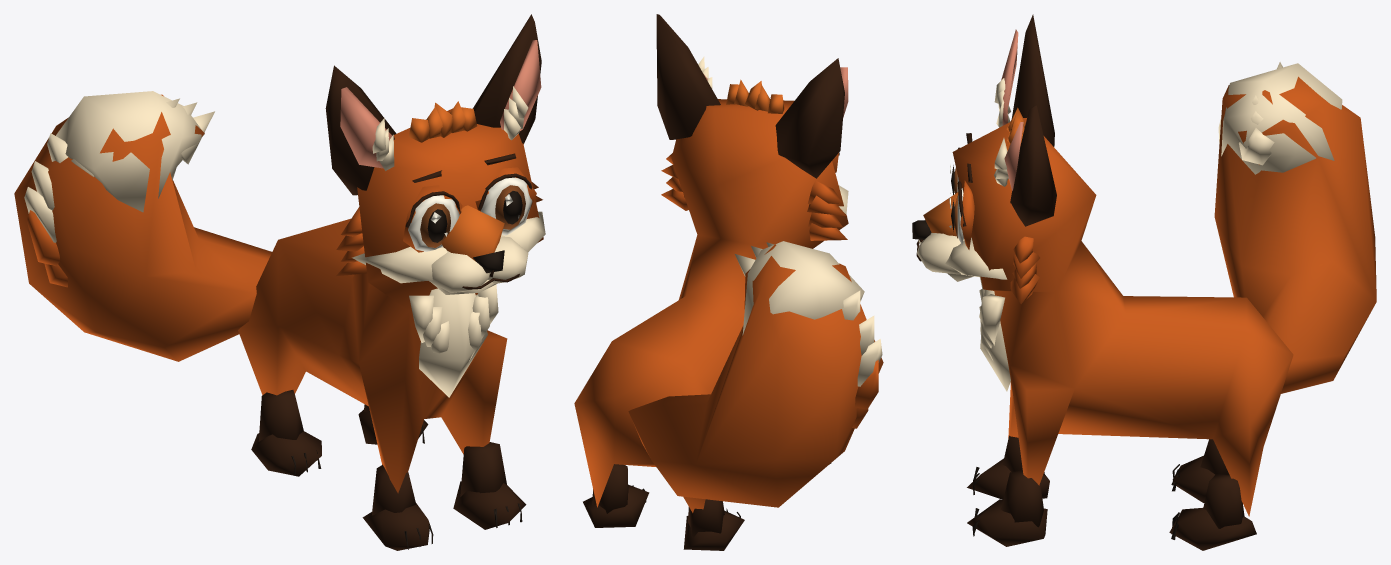
The model's file is geometry-source-sided.glb.
3 renders of one model, left to right at view 1: azimuth 30°, elevation 25°; view 2: azimuth 150°, elevation 25°; view 3: azimuth 270°, elevation 25°, orthographic. The views are drawn at different scales.
Visible parts, largest first — view 1: EXPORT Anatomy • unified live sculpt surface, EXPORT Tail • sweeping continuous silhouette, EXPORT Tail • broad ivory tip, EXPORT Cream throat bib, EXPORT Ear • solid rim -1, EXPORT Ear • solid rim 1, EXPORT Rear paw -1, EXPORT Muzzle • projecting orange bridge, EXPORT Front paw -1, EXPORT Ear • recessed coral concha -1, EXPORT Front paw 1, EXPORT Front cocoa sock 1 (+13 smaller); view 2: EXPORT Anatomy • unified live sculpt surface, EXPORT Tail • sweeping continuous silhouette, EXPORT Tail • broad ivory tip, EXPORT Ear • solid rim -1, EXPORT Ear • solid rim 1, EXPORT Rear paw 1, EXPORT Rear paw -1, EXPORT Rear cocoa sock 1, EXPORT Rear cocoa sock -1, EXPORT Tail silhouette tuft 3, EXPORT Tail silhouette tuft 4, EXPORT Cheek ruff lock -1 3 (+5 smaller); view 3: EXPORT Anatomy • unified live sculpt surface, EXPORT Tail • sweeping continuous silhouette, EXPORT Tail • broad ivory tip, EXPORT Ear • solid rim 1, EXPORT Ear • solid rim -1, EXPORT Rear paw 1, EXPORT Front paw 1, EXPORT Front cocoa sock 1, EXPORT Rear cocoa sock 1, EXPORT Muzzle pad 1, EXPORT Cream swept cheek 1, EXPORT Front paw -1 (+9 smaller).
Part boxes in pixels (x1=…): EXPORT Anatomy • unified live sculpt surface: x1=238, y1=108, x2=543, y2=493; EXPORT Tail • sweeping continuous silhouette: x1=14, y1=94, x2=271, y2=361; EXPORT Tail • broad ivory tip: x1=56, y1=91, x2=204, y2=212; EXPORT Cream throat bib: x1=419, y1=288, x2=487, y2=397; EXPORT Ear • solid rim -1: x1=325, y1=65, x2=396, y2=195; EXPORT Ear • solid rim 1: x1=473, y1=14, x2=541, y2=143; EXPORT Rear paw -1: x1=251, y1=431, x2=321, y2=476; EXPORT Muzzle • projecting orange bridge: x1=441, y1=205, x2=504, y2=261; EXPORT Front paw -1: x1=362, y1=503, x2=429, y2=550; EXPORT Ear • recessed coral concha -1: x1=340, y1=87, x2=392, y2=168; EXPORT Front paw 1: x1=453, y1=481, x2=526, y2=529; EXPORT Front cocoa sock 1: x1=460, y1=442, x2=506, y2=496; EXPORT Anatomy • unified live sculpt surface: x1=574, y1=99, x2=848, y2=512; EXPORT Tail • sweeping continuous silhouette: x1=628, y1=244, x2=883, y2=507; EXPORT Tail • broad ivory tip: x1=742, y1=241, x2=864, y2=335; EXPORT Ear • solid rim -1: x1=775, y1=58, x2=844, y2=178; EXPORT Ear • solid rim 1: x1=656, y1=14, x2=720, y2=139; EXPORT Rear paw 1: x1=583, y1=484, x2=649, y2=527; EXPORT Rear paw -1: x1=683, y1=510, x2=744, y2=550; EXPORT Rear cocoa sock 1: x1=592, y1=464, x2=628, y2=513; EXPORT Rear cocoa sock -1: x1=688, y1=499, x2=724, y2=537; EXPORT Tail silhouette tuft 3: x1=855, y1=360, x2=878, y2=409; EXPORT Tail silhouette tuft 4: x1=857, y1=339, x2=882, y2=386; EXPORT Cheek ruff lock -1 3: x1=809, y1=223, x2=847, y2=240; EXPORT Anatomy • unified live sculpt surface: x1=952, y1=118, x2=1293, y2=516; EXPORT Tail • sweeping continuous silhouette: x1=1214, y1=76, x2=1376, y2=393; EXPORT Tail • broad ivory tip: x1=1218, y1=63, x2=1342, y2=174; EXPORT Ear • solid rim 1: x1=1010, y1=105, x2=1056, y2=226; EXPORT Ear • solid rim -1: x1=1011, y1=14, x2=1054, y2=146; EXPORT Rear paw 1: x1=1169, y1=508, x2=1256, y2=550; EXPORT Front paw 1: x1=967, y1=499, x2=1047, y2=546; EXPORT Front cocoa sock 1: x1=1001, y1=470, x2=1043, y2=527; EXPORT Rear cocoa sock 1: x1=1203, y1=474, x2=1244, y2=528; EXPORT Muzzle pad 1: x1=916, y1=233, x2=964, y2=274; EXPORT Cream swept cheek 1: x1=945, y1=237, x2=1007, y2=279; EXPORT Front paw -1: x1=967, y1=458, x2=1049, y2=499.
Bounding box in the file's own units: 2.99 × 3.66 × 3.32.
